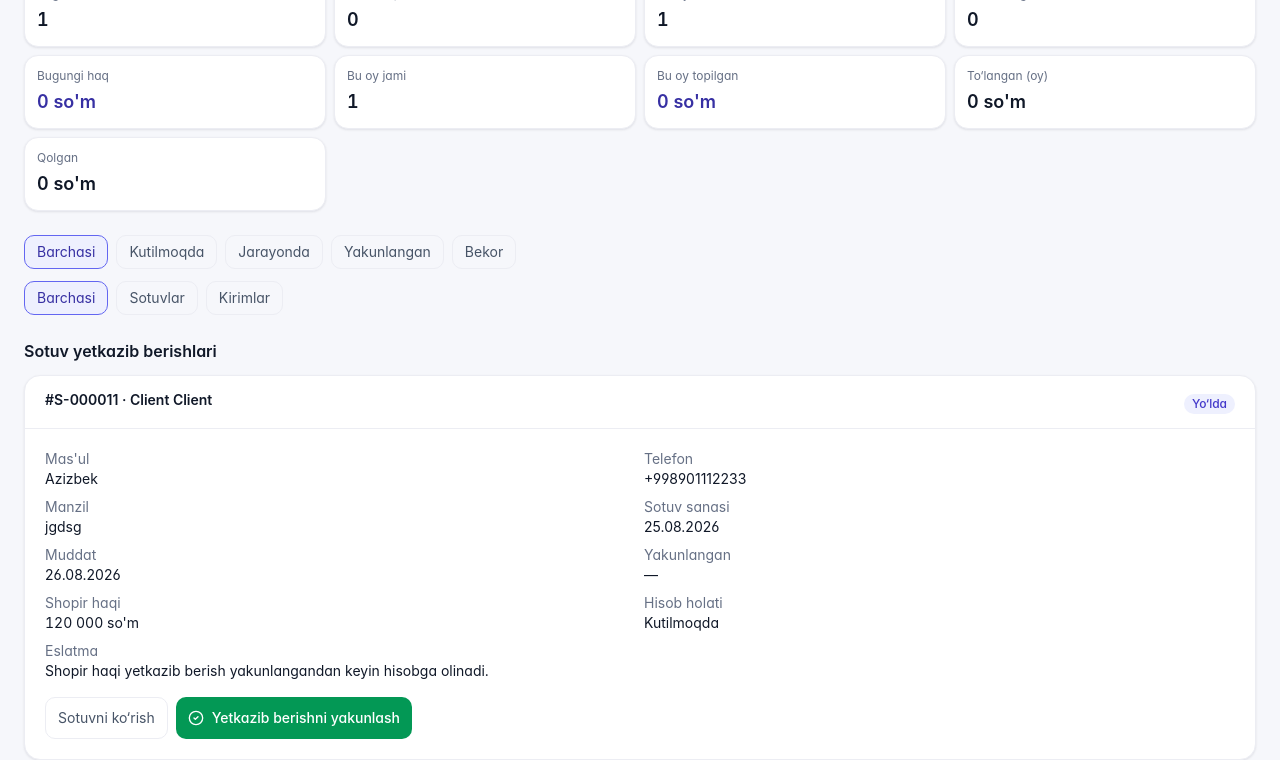
DeliveryPage › completes in-progress delivery after confirmation
(page scrolled)
Click the button with test id "complete-delivery-sale_1": (294, 718) [176,697,412,739]
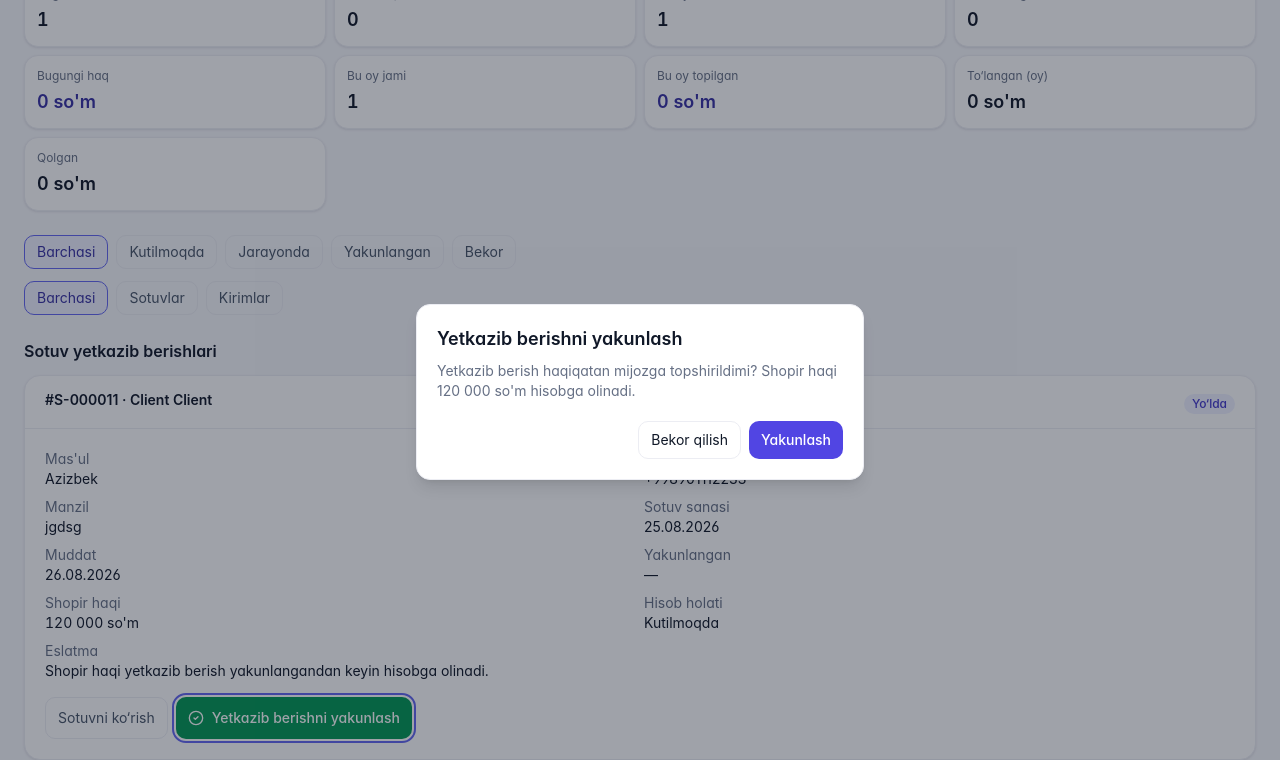
Now the text "mijozga topshirildimi" is shown, box [437,362,757,379]
Click the button "Yakunlash": (796, 440) [749,421,843,459]
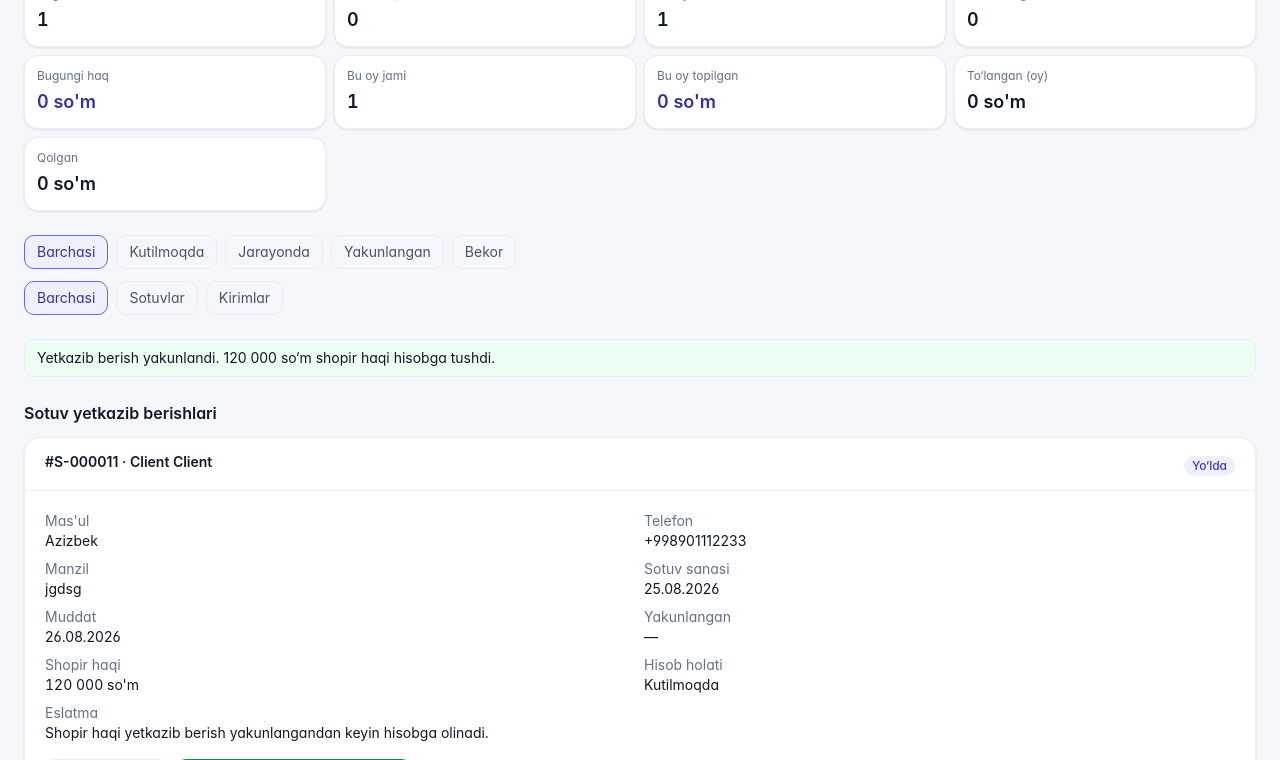
Now the text "Yetkazib berish yakunlandi. 120 000 so‘m shopir haqi hisobga tushdi." is shown, box [24,339,1256,377]
